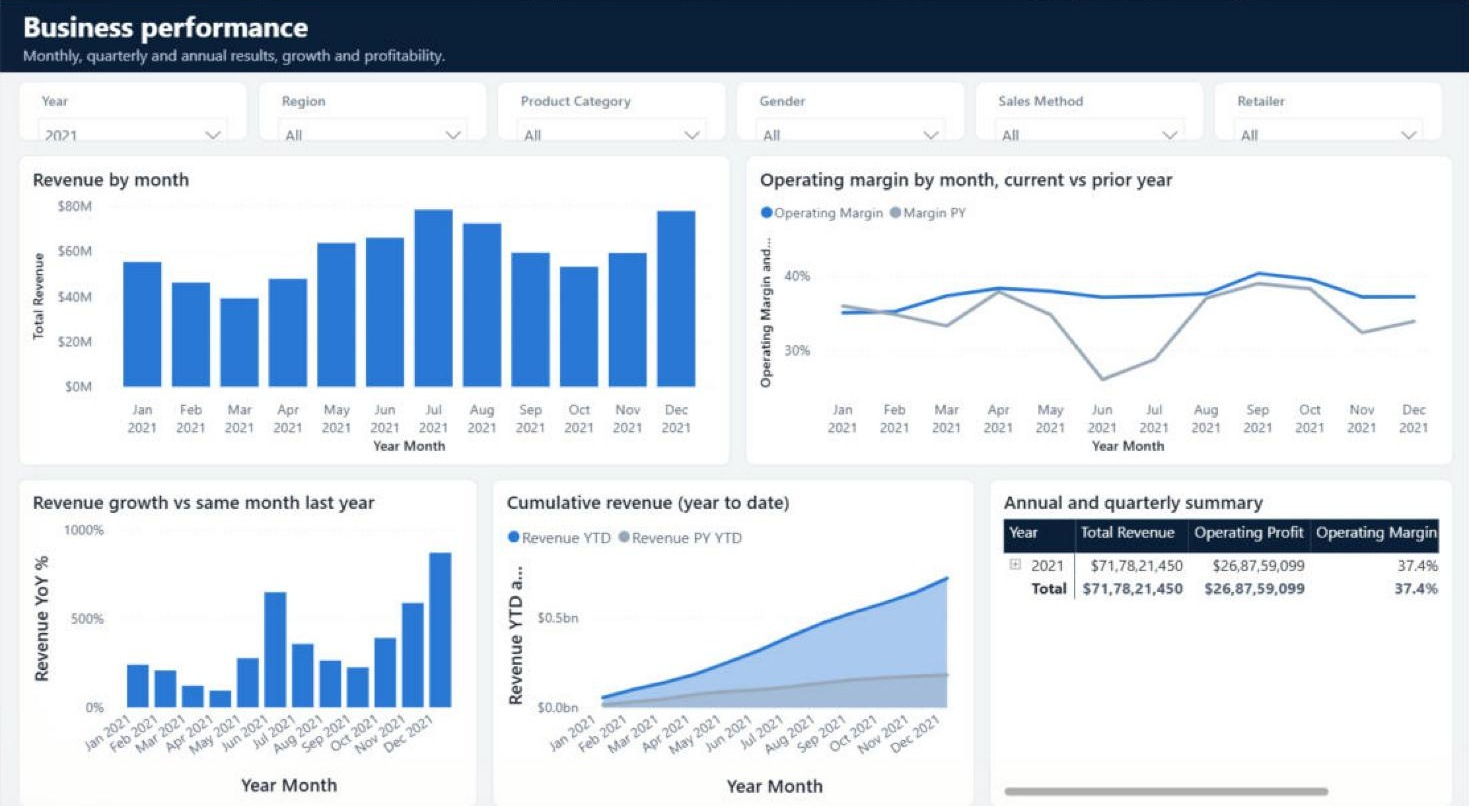

The page's visual inventory and layout, read from the dashboard file:
{"tool":"powerbi","page":{"name":"Performance","canvas":[1280,720],"ordinal":1},"visuals":[{"type":"textbox","box":[0,0,1280,64],"z":1000},{"type":"slicer","fields":{"Values":["Calendar.Year"]},"box":[16,72,200,52],"z":2000},{"type":"slicer","fields":{"Values":["Geography.Region"]},"box":[224,72,200,52],"z":3000},{"type":"slicer","fields":{"Values":["Product.Product Category"]},"box":[432,72,200,52],"z":4000},{"type":"slicer","fields":{"Values":["Product.Gender"]},"box":[640,72,200,52],"z":5000},{"type":"slicer","fields":{"Values":["Sales Method.Sales Method"]},"box":[848,72,200,52],"z":6000},{"type":"slicer","fields":{"Values":["Retailer.Retailer"]},"box":[1056,72,200,52],"z":7000},{"type":"clusteredColumnChart","title":"Revenue by month","fields":{"Category":["Calendar.Year Month"],"Y":["_Measures.Total Revenue"]},"box":[16,136,620,270],"z":8000},{"type":"lineChart","title":"Operating margin by month, current vs prior year","fields":{"Category":["Calendar.Year Month"],"Y":["_Measures.Operating Margin","_Measures.Margin PY"]},"box":[648,136,616,270],"z":9000},{"type":"clusteredColumnChart","title":"Revenue growth vs same month last year","fields":{"Category":["Calendar.Year Month"],"Y":["_Measures.Revenue YoY %"]},"box":[16,418,400,286],"z":10000},{"type":"areaChart","title":"Cumulative revenue (year to date)","fields":{"Category":["Calendar.Year Month"],"Y":["_Measures.Revenue YTD","_Measures.Revenue PY YTD"]},"box":[428,418,420,286],"z":11000},{"type":"pivotTable","title":"Annual and quarterly summary","fields":{"Rows":["Calendar.Year","Calendar.Quarter"],"Values":["_Measures.Total Revenue","_Measures.Operating Profit","_Measures.Operating Margin","_Measures.Revenue YoY %"]},"box":[860,418,404,286],"z":12000}]}

Visuals, with their boxes in screenshot pixels (x1, y1, x2, y2), scaled from the page's 1280x720 canvas onto the 1469x806 screenshot:
textbox: 0,0,1468,72
slicer - Calendar.Year: 18,81,248,139
slicer - Geography.Region: 257,81,487,139
slicer - Product.Product Category: 496,81,725,139
slicer - Product.Gender: 734,81,964,139
slicer - Sales Method.Sales Method: 973,81,1203,139
slicer - Retailer.Retailer: 1212,81,1441,139
"Revenue by month" clusteredColumnChart: 18,152,730,454
"Operating margin by month, current vs prior year" lineChart: 744,152,1451,454
"Revenue growth vs same month last year" clusteredColumnChart: 18,468,477,788
"Cumulative revenue (year to date)" areaChart: 491,468,973,788
"Annual and quarterly summary" pivotTable: 987,468,1451,788
